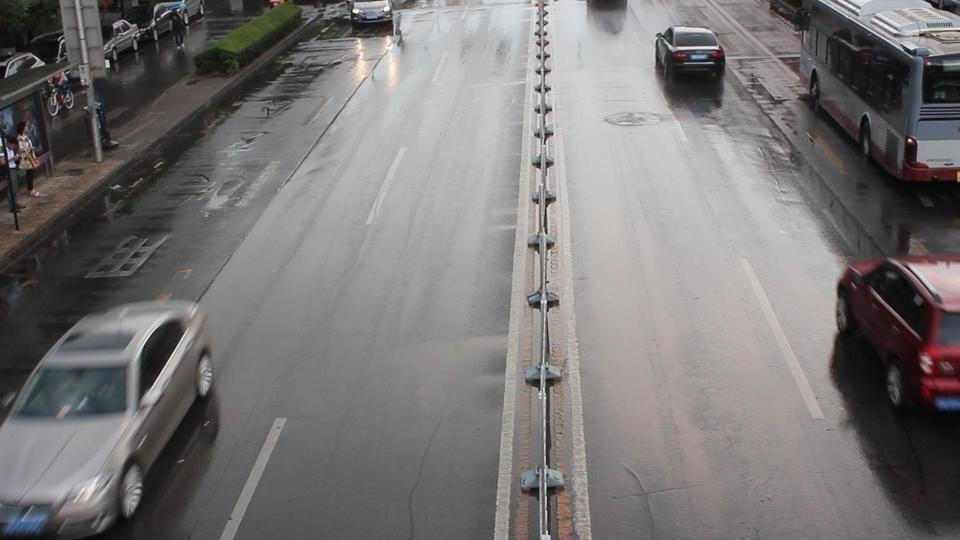car: (0, 299, 218, 537), (834, 255, 960, 417), (654, 25, 726, 82), (350, 0, 392, 29)
